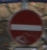No entry: (5, 6, 41, 45)
